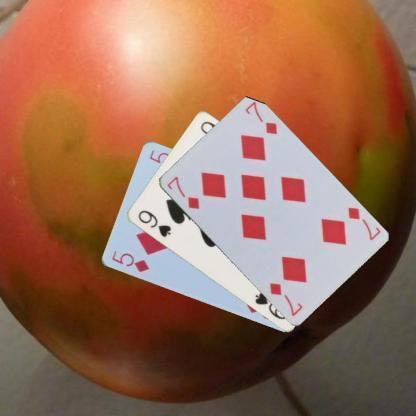5d: (108, 248, 150, 274)
7d: (344, 204, 382, 242), (164, 173, 201, 211)
9s: (135, 208, 172, 238)
